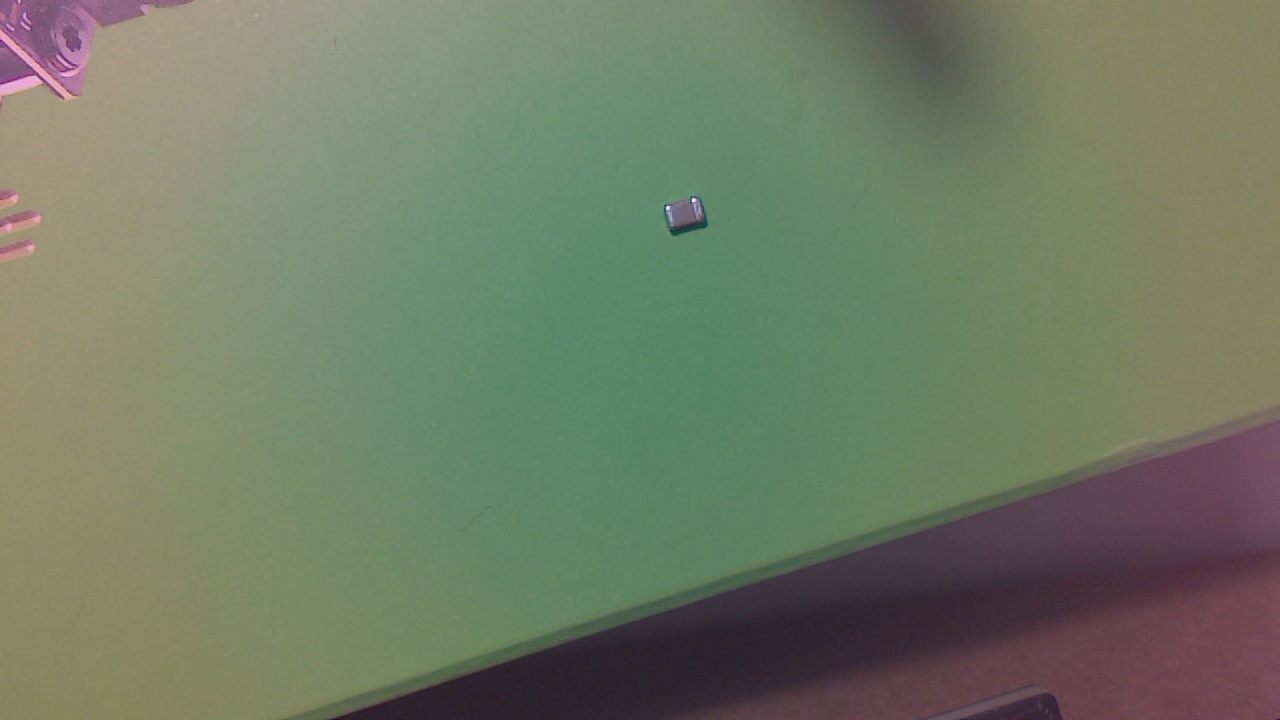Condensator: (676, 199, 712, 238)
